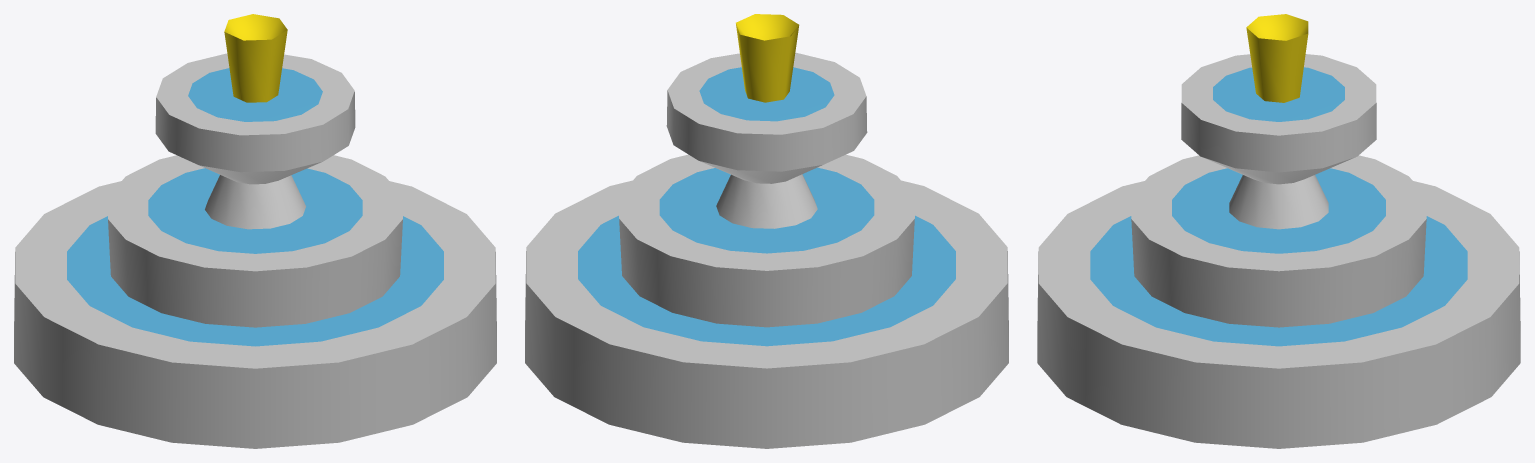
File: fountain01_s01.FBX
The picture shows the model from 3 angles, left to right: view 1: azimuth 30°, elevation 25°; view 2: azimuth 150°, elevation 25°; view 3: azimuth 270°, elevation 25°; orthographic projection.
Parts seen in each view (by area): view 1: fountain01_s01; view 2: fountain01_s01; view 3: fountain01_s01.
Boxes of the visible parts, x1,y1,x2,y2 form: fountain01_s01: (14, 14, 496, 448); fountain01_s01: (525, 14, 1008, 448); fountain01_s01: (1037, 14, 1520, 448).
Bounding box in the file's own units: 264 × 260 × 189.
1 material, 1 textured.
